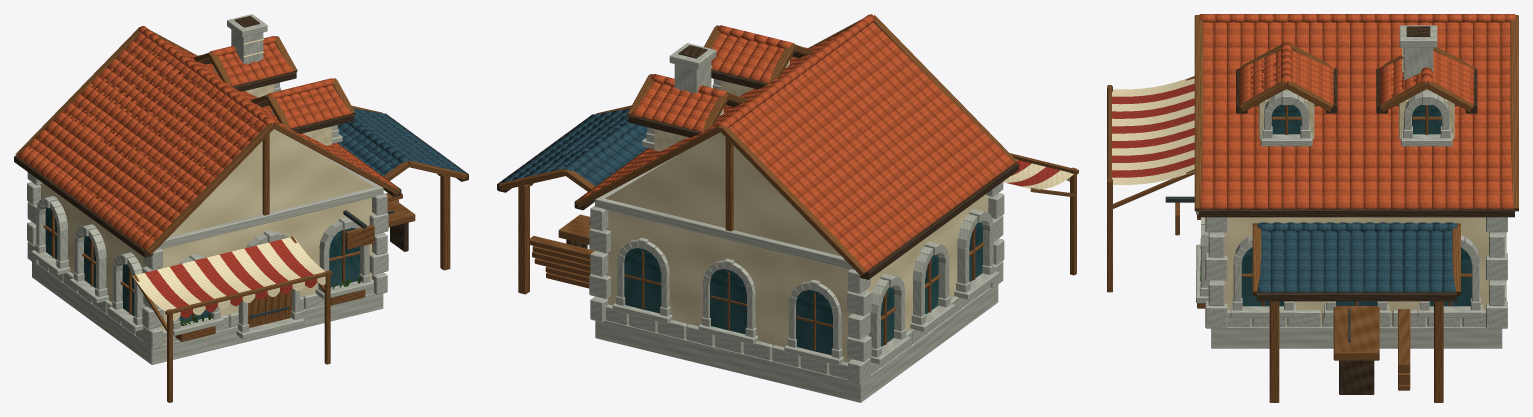
File: carpenter_workshop.glb
3 renders of one model, left to right at view 1: azimuth 30°, elevation 25°; view 2: azimuth 150°, elevation 25°; view 3: azimuth 270°, elevation 25°, orthographic. The views are drawn at different scales.
Visible parts, largest first — view 1: carpenter_workshop_Roof.001, carpenter_workshop_Structure.001, carpenter_workshop_Joinery.001, carpenter_workshop_Detail.001, carpenter_workshop_Cloth.001, carpenter_workshop_Glazing.001; view 2: carpenter_workshop_Roof.001, carpenter_workshop_Structure.001, carpenter_workshop_Joinery.001, carpenter_workshop_Detail.001, carpenter_workshop_Glazing.001, carpenter_workshop_Cloth.001; view 3: carpenter_workshop_Roof.001, carpenter_workshop_Joinery.001, carpenter_workshop_Structure.001, carpenter_workshop_Cloth.001, carpenter_workshop_Detail.001, carpenter_workshop_Glazing.001.
Boxes of the visible parts, x1,y1,x2,y2 form: carpenter_workshop_Roof.001: (17,26,465,250); carpenter_workshop_Structure.001: (27,14,388,364); carpenter_workshop_Joinery.001: (14,27,468,402); carpenter_workshop_Detail.001: (31,82,373,339); carpenter_workshop_Cloth.001: (132,236,325,321); carpenter_workshop_Glazing.001: (45,207,360,322); carpenter_workshop_Roof.001: (501,14,1014,271); carpenter_workshop_Structure.001: (589,43,1004,402); carpenter_workshop_Joinery.001: (497,14,1078,350); carpenter_workshop_Detail.001: (612,79,999,365); carpenter_workshop_Glazing.001: (624,222,982,355); carpenter_workshop_Cloth.001: (1003,159,1073,189); carpenter_workshop_Roof.001: (1199,14,1515,292); carpenter_workshop_Joinery.001: (1107,15,1518,402); carpenter_workshop_Structure.001: (1205,25,1507,348); carpenter_workshop_Cloth.001: (1112,77,1194,184); carpenter_workshop_Detail.001: (1196,90,1506,317); carpenter_workshop_Glazing.001: (1241,104,1471,306).
Bounding box in the file's own units: 10.51 × 6.57 × 8.52.
Materials: 4 (4 with a texture image).
